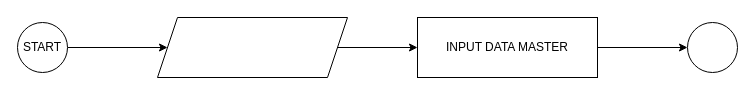
The diagram is 755 pixels wide and 95 high, and some of its shapes have lost their labels. Each missing label, with the centre of its shape:
"CREATE DATA MASTER" belongs at (x=252, y=47).
"END" belongs at (x=712, y=47).
